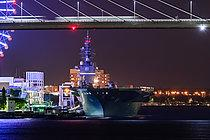MIL_Ship: (68, 29, 159, 117)
